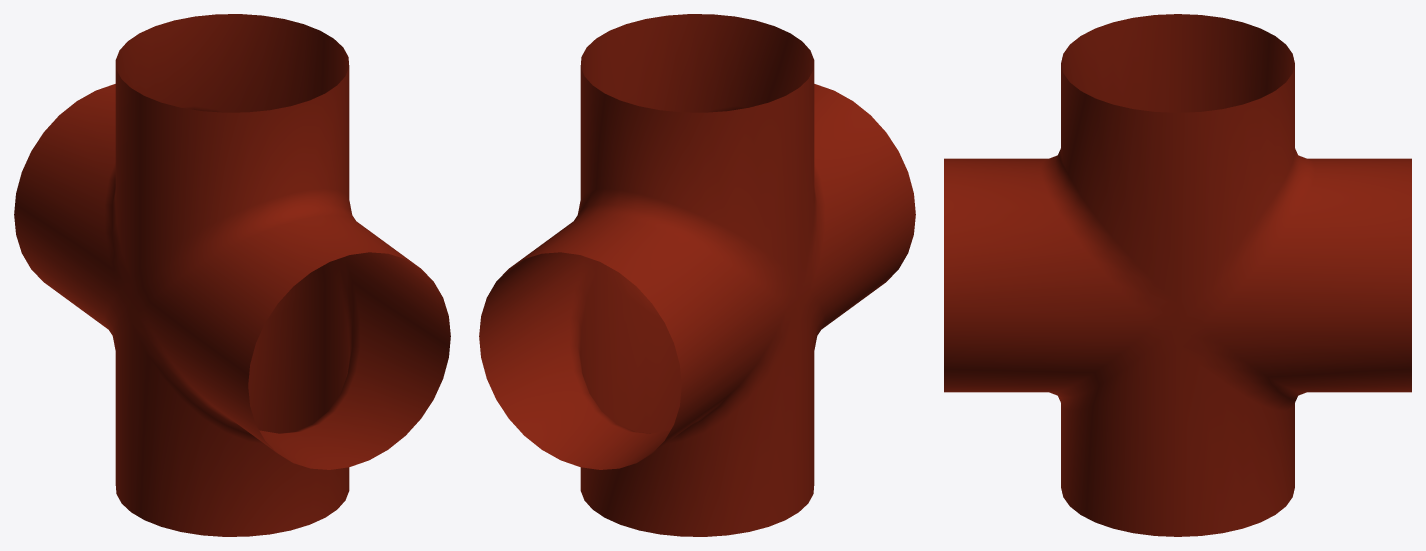
The model's file is +pipe.fbx.
The picture shows the model from 3 angles, left to right: view 1: azimuth 30°, elevation 25°; view 2: azimuth 150°, elevation 25°; view 3: azimuth 270°, elevation 25°; orthographic projection.
Visible parts, largest first — view 1: + piece; view 2: + piece; view 3: + piece.
Part boxes in pixels (x1=…): + piece: x1=14, y1=14, x2=450, y2=536; + piece: x1=479, y1=14, x2=915, y2=536; + piece: x1=944, y1=14, x2=1411, y2=536.
Size of the model in its own units: 200 by 400 by 400.
